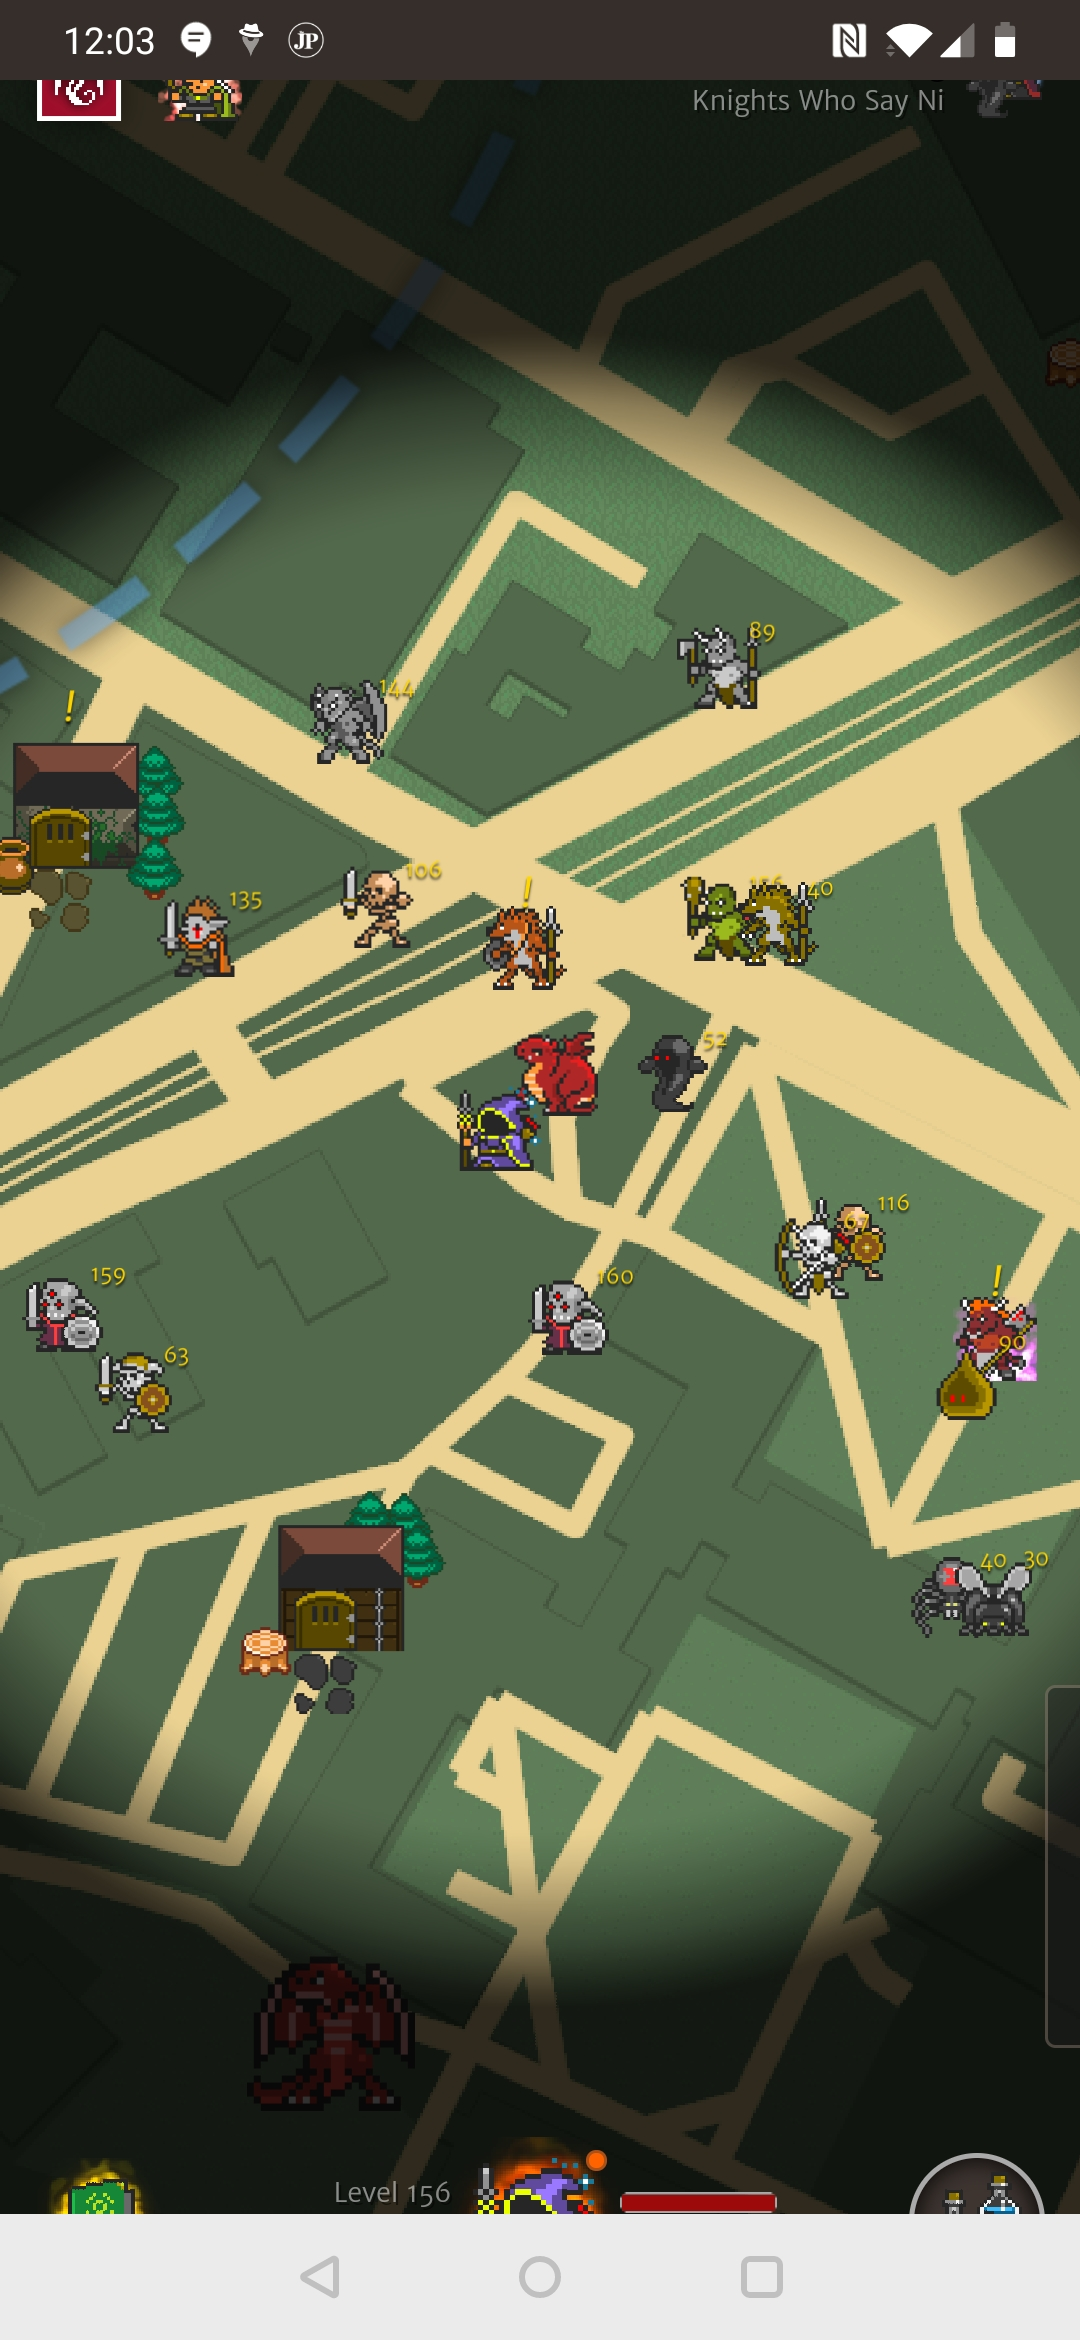monster: (288, 675, 422, 799), (322, 847, 443, 975), (88, 1344, 208, 1454), (529, 1268, 650, 1375), (15, 1261, 136, 1358), (681, 616, 784, 720), (157, 902, 263, 992)
player: (443, 1082, 543, 1178)
